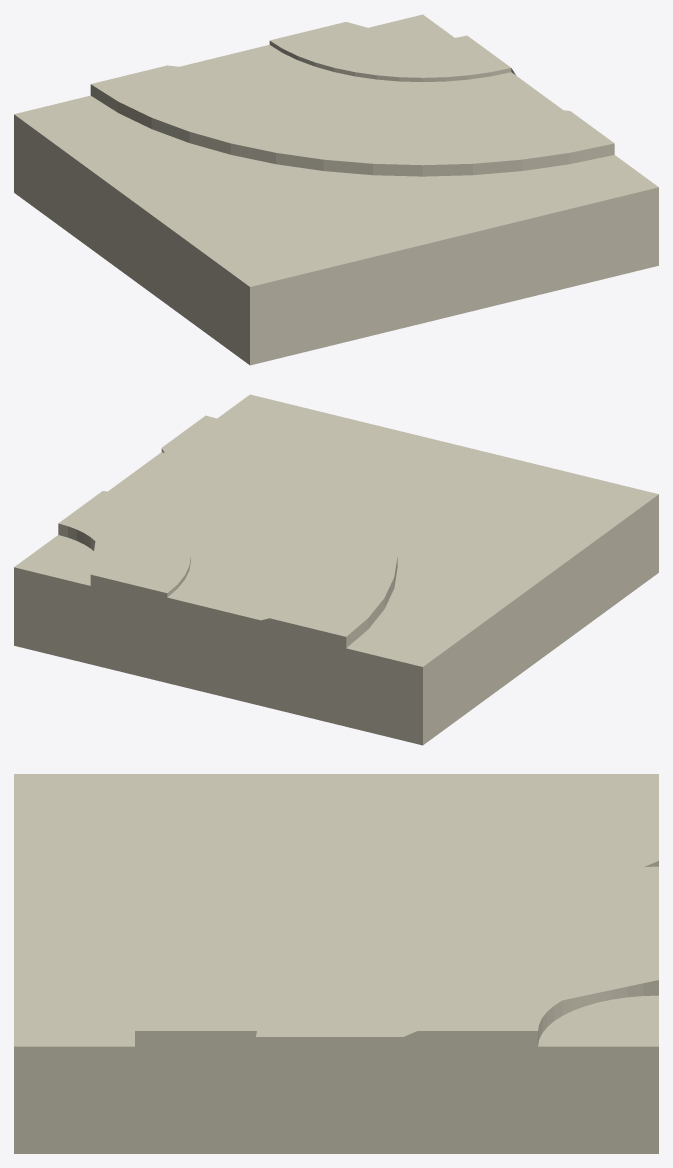
File: roadtile_155.glb
3 views of the same model, one above another, from view 1: azimuth 30°, elevation 25°; view 2: azimuth 150°, elevation 25°; view 3: azimuth 270°, elevation 25° (orthographic). The views are drawn at different scales.
Parts seen in each view (by area): view 1: Mesh1 Group1 Model; view 2: Mesh1 Group1 Model; view 3: Mesh1 Group1 Model.
Boxes of the visible parts, box(x1,y1,x2,y2) form: Mesh1 Group1 Model: box(14, 14, 658, 365); Mesh1 Group1 Model: box(14, 394, 658, 745); Mesh1 Group1 Model: box(14, 774, 658, 1153).
Bounding box in the file's own units: 3 × 0.63 × 3.
